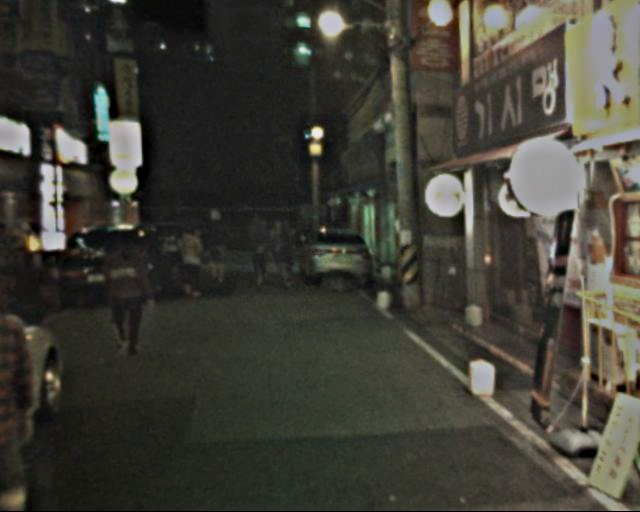person: (1, 247, 58, 511), (107, 230, 156, 350), (174, 221, 210, 305), (201, 204, 234, 288), (245, 212, 273, 292), (273, 221, 300, 296)
